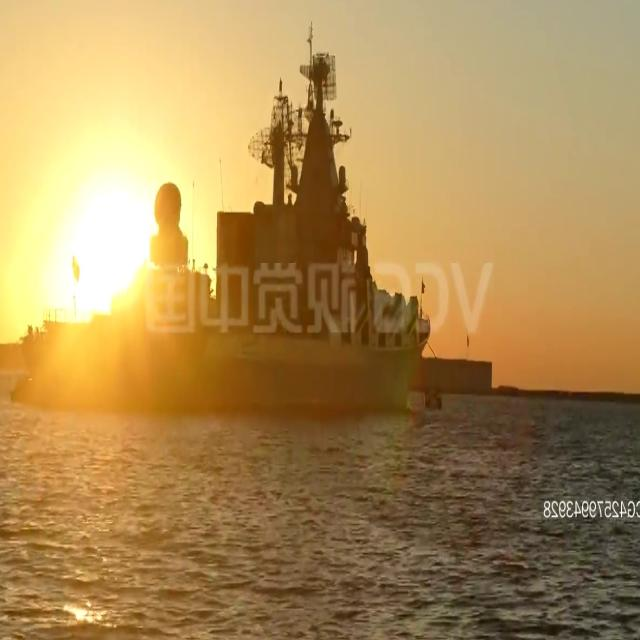navalvessels: (24, 38, 429, 395)
